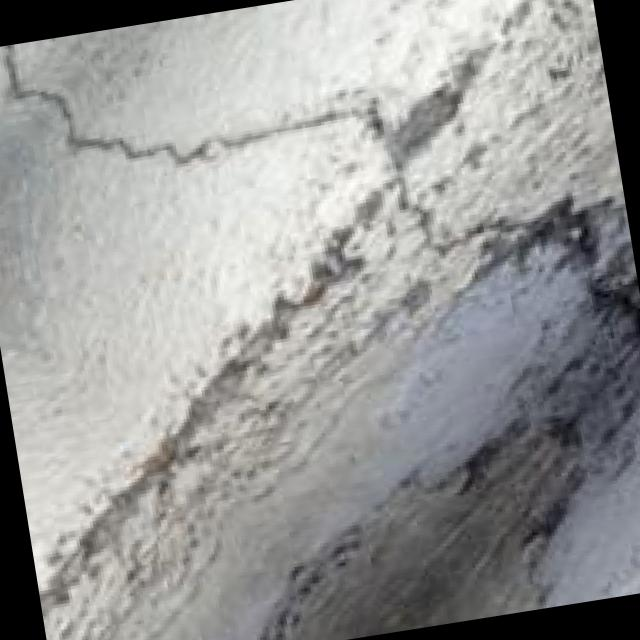crack: (0, 0, 364, 245)
